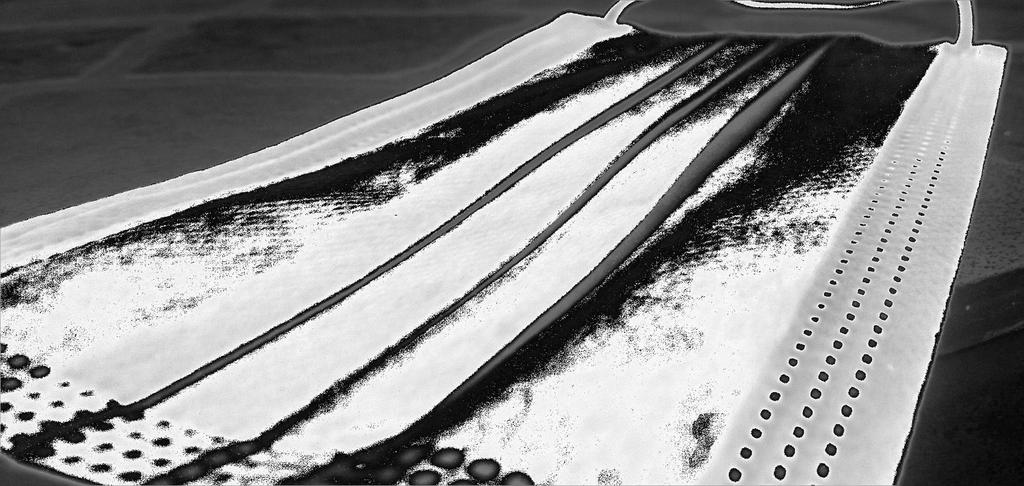High GSM: (1, 4, 968, 486)
